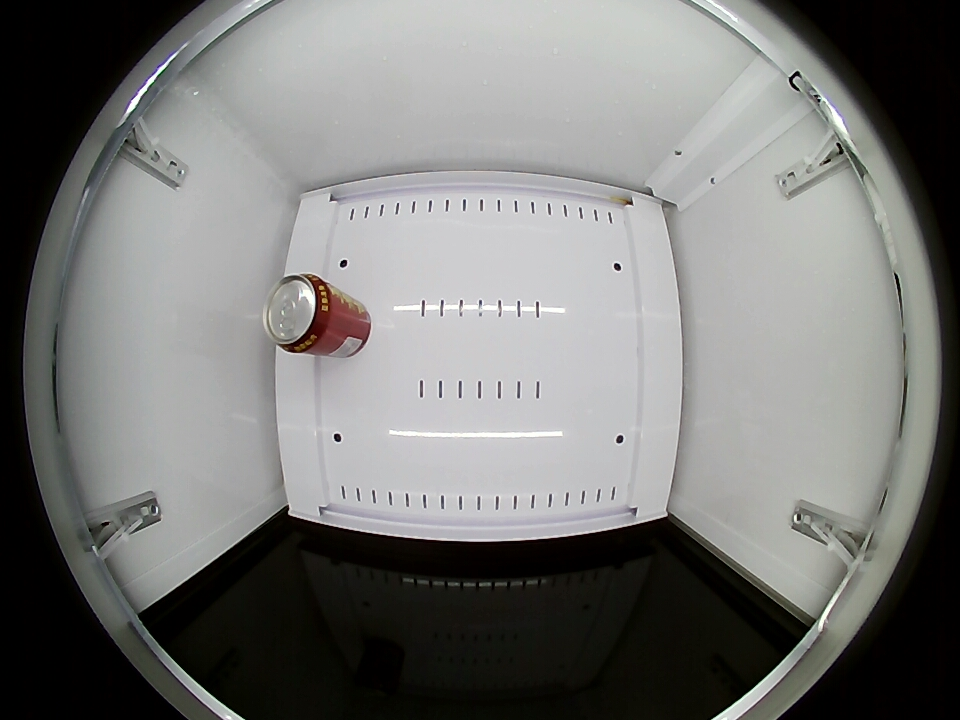wanglaoji-c: (263, 273, 337, 353)
